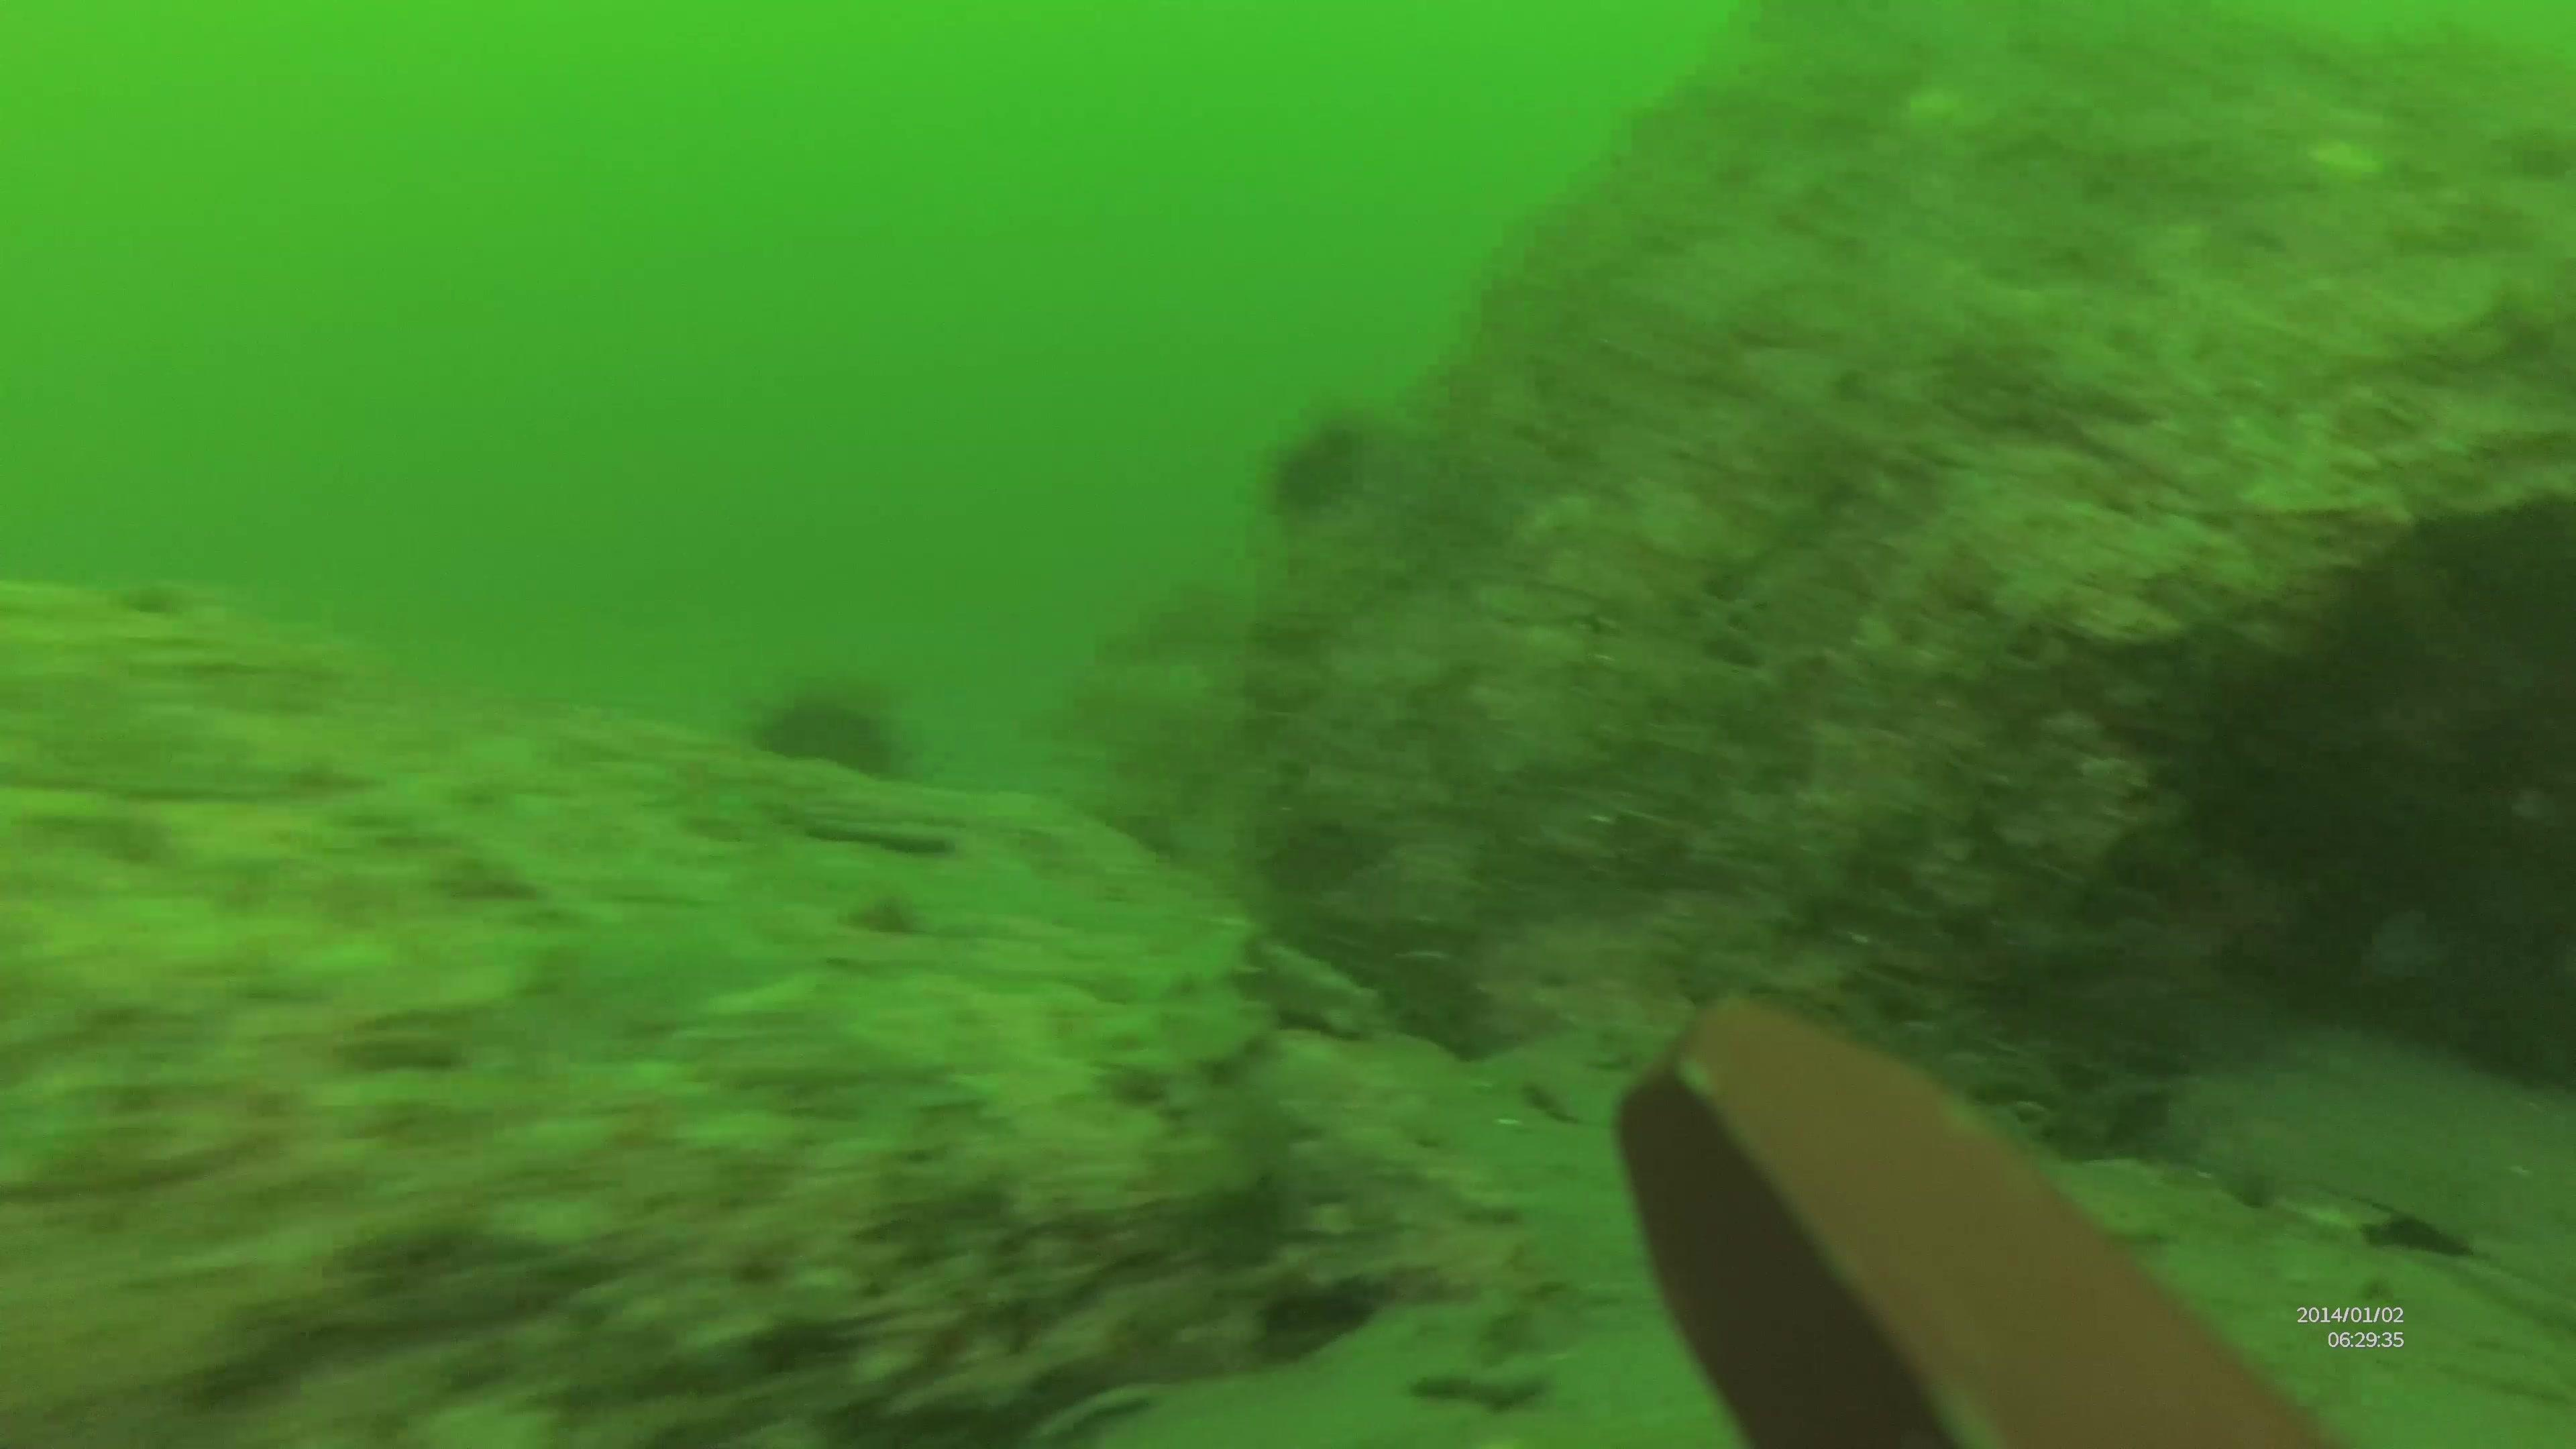echinus: (717, 667, 920, 814), (1254, 398, 1398, 513)
